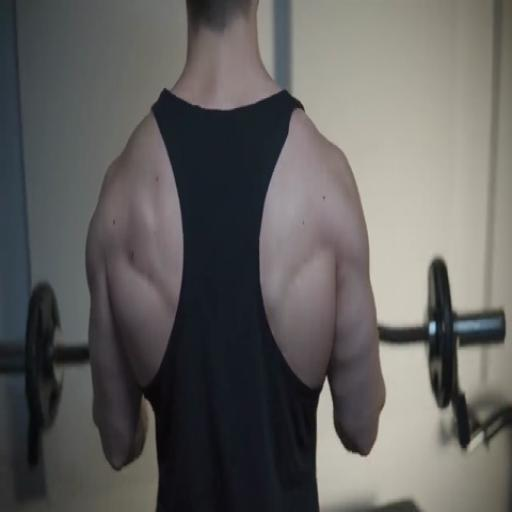exercise: (83, 0, 388, 511)
